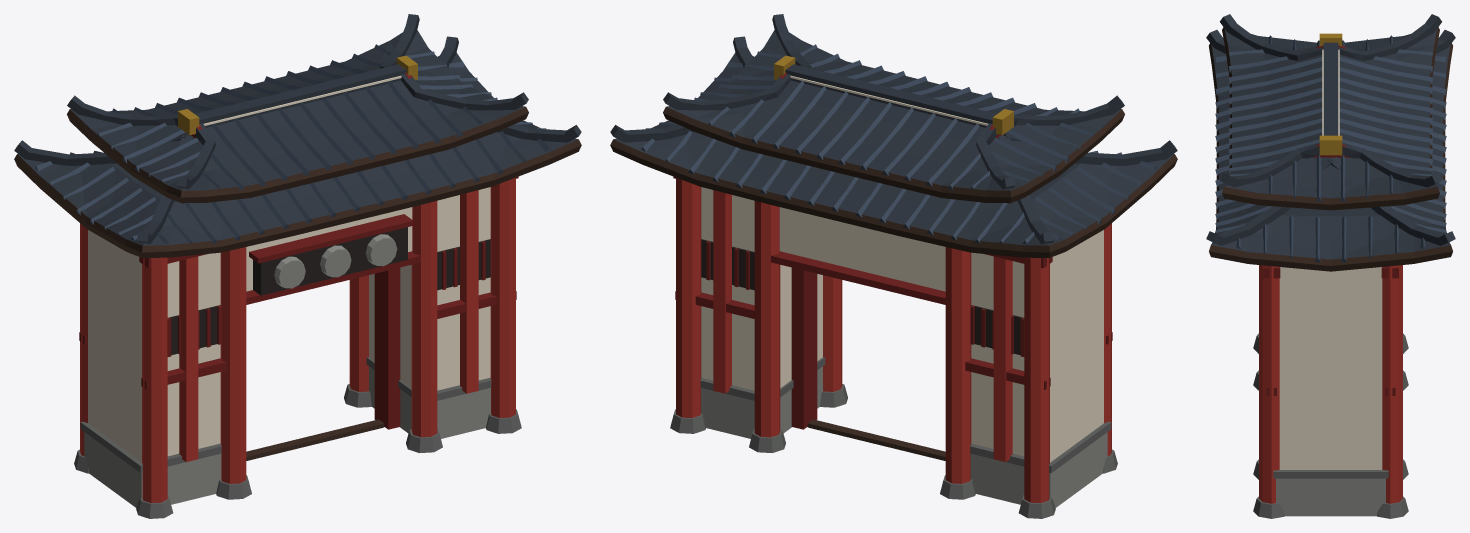
Rendered from dojo_gate.fbx.
3 views of the same model, side by side, from view 1: azimuth 30°, elevation 25°; view 2: azimuth 150°, elevation 25°; view 3: azimuth 270°, elevation 25° (orthographic). The views are drawn at different scales.
Parts seen in each view (by area): view 1: dojo_gate; view 2: dojo_gate; view 3: dojo_gate.
Part boxes in pixels (x1,y1,x2,y2): dojo_gate: [14, 14, 581, 518]; dojo_gate: [610, 14, 1177, 518]; dojo_gate: [1206, 14, 1455, 518].
Bounding box in the file's own units: 11.18 × 8.61 × 5.68.
